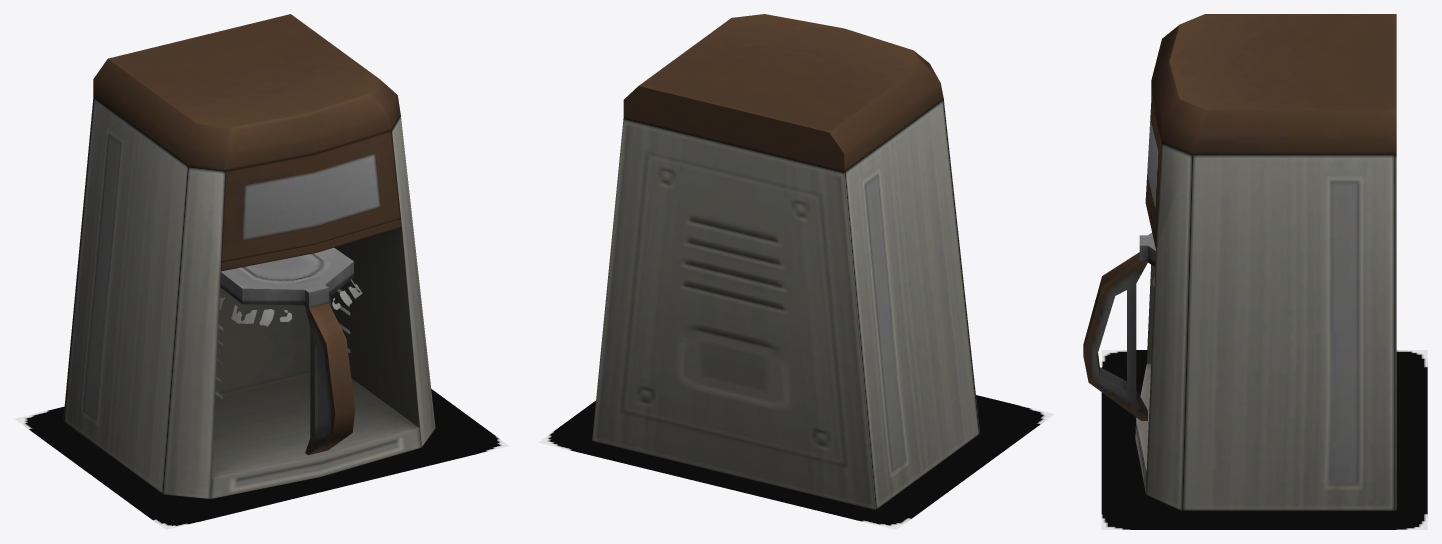
Rendered from jj_ty_shuihu02.FBX.
The picture shows the model from 3 angles, left to right: view 1: azimuth 30°, elevation 25°; view 2: azimuth 150°, elevation 25°; view 3: azimuth 270°, elevation 25°; orthographic projection. The views are drawn at different scales.
Parts seen in each view (by area): view 1: jj_ty_shuihu02, shadow; view 2: jj_ty_shuihu02, shadow; view 3: jj_ty_shuihu02, shadow.
Part boxes in pixels (x1,y1,x2,y2): jj_ty_shuihu02: (63,14,435,498); shadow: (14,389,509,529); jj_ty_shuihu02: (592,14,979,509); shadow: (539,395,1054,529); jj_ty_shuihu02: (1083,14,1396,510); shadow: (1101,350,1427,529).
Bounding box in the file's own units: 37.58 × 37.84 × 30.4.
